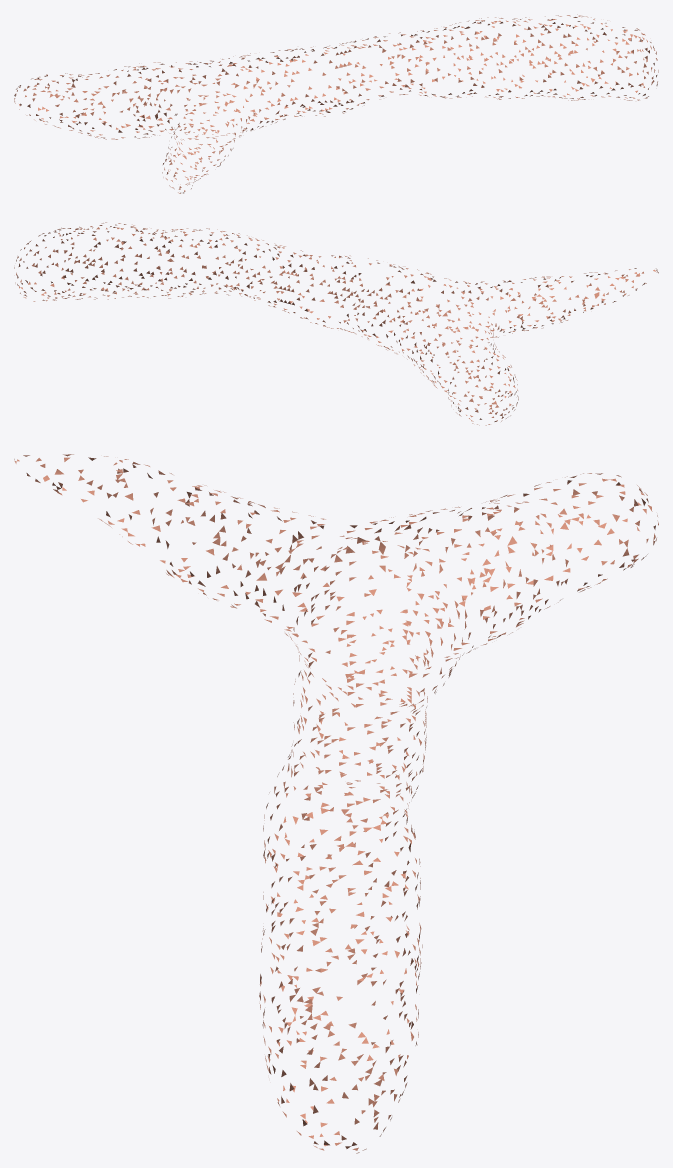
File: morph_003.glb
3 views of the same model, one above another, from view 1: azimuth 30°, elevation 25°; view 2: azimuth 150°, elevation 25°; view 3: azimuth 270°, elevation 25° (orthographic). The views are drawn at different scales.
Bounding box in the file's own units: 105 × 22.19 × 54.09.
